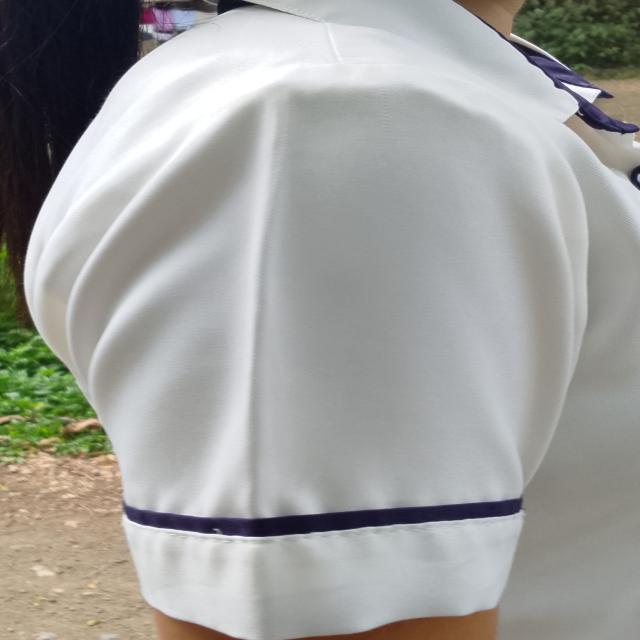education_female_uniform: (1, 7, 640, 634)
